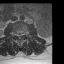CCS_normal: (18, 32, 20, 40)
LFS_normal: (22, 31, 25, 36)
LLS_normal: (20, 31, 22, 38)
RFS_normal: (15, 31, 16, 37)
RLS_normal: (16, 32, 19, 38)
